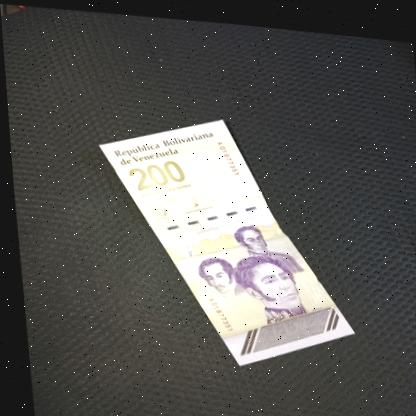two_hundred-front-vef: (92, 102, 353, 374)
